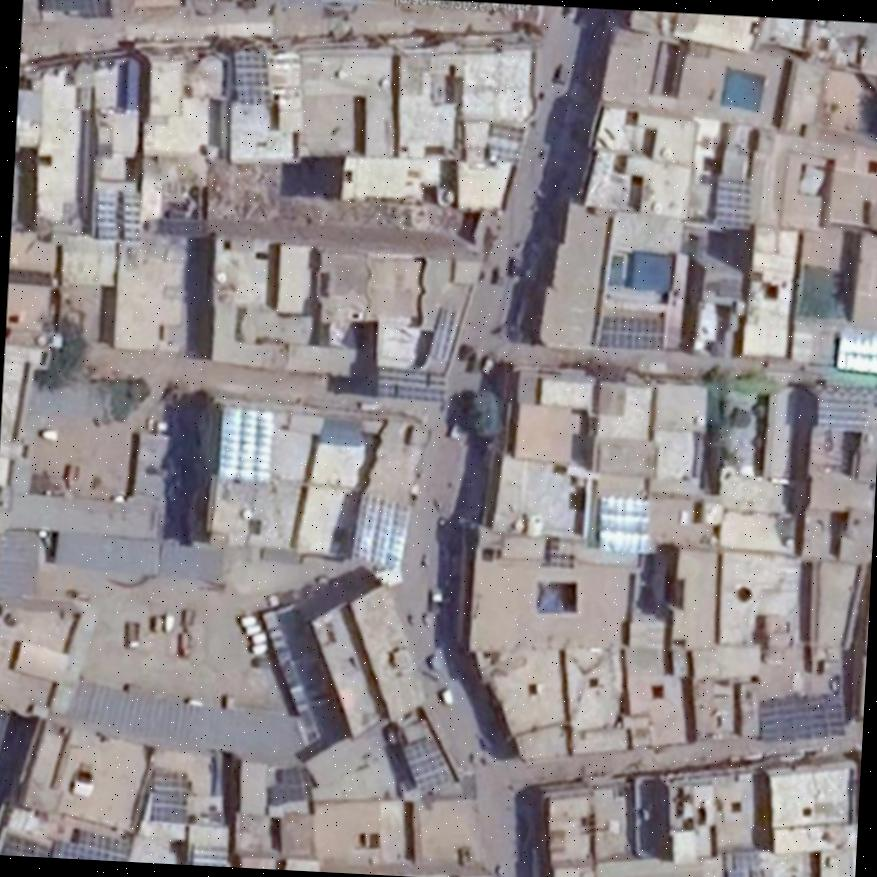Solarpanel: (349, 495, 410, 570), (218, 403, 275, 480), (756, 694, 845, 743), (597, 496, 648, 552), (51, 829, 128, 861), (376, 365, 442, 402), (813, 390, 871, 432), (403, 740, 448, 791), (234, 48, 271, 106), (150, 770, 187, 824), (601, 318, 663, 350), (98, 194, 142, 238), (717, 175, 748, 226), (835, 336, 877, 371), (188, 844, 227, 866), (40, 0, 110, 11)
